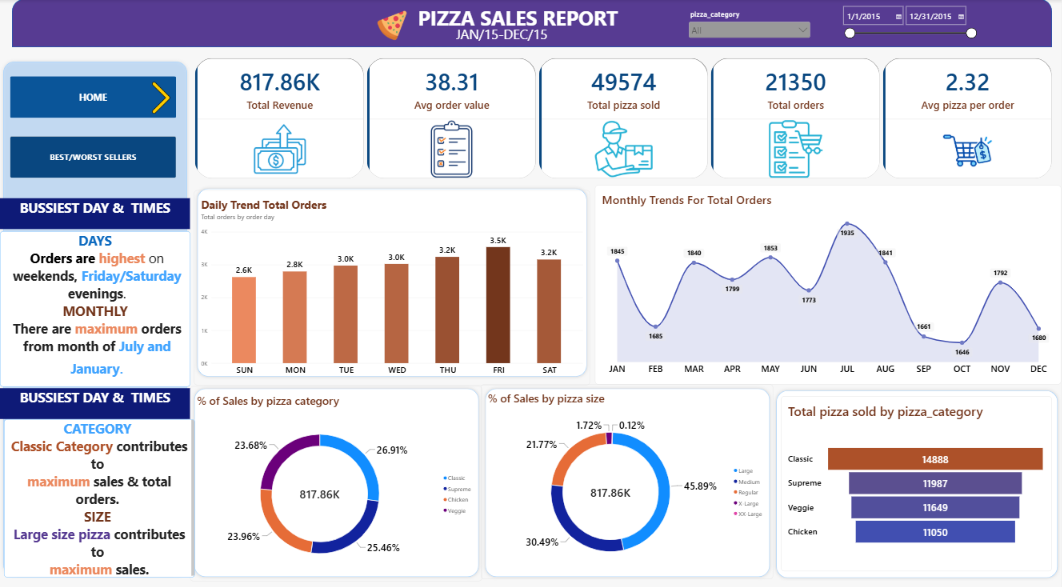

The dashboard page shown, as its layout file describes it:
{"tool":"powerbi","page":{"name":"HOME","canvas":[2560,1440],"ordinal":0},"visuals":[{"type":"cardVisual","fields":{"Data":["pizza_db pizza_sales.Total Revenue","pizza_db pizza_sales.Avg order value","pizza_db pizza_sales.Total pizza sold","pizza_db pizza_sales.Total orders","pizza_db pizza_sales.Avg pizza per order"]},"box":[470,142.6,2070,290.4],"z":0},{"type":"shape","box":[29,0,2509.4,115.8],"z":1000},{"type":"textbox","box":[1008.4,13.2,580,92.3],"z":2000},{"type":"textbox","box":[1100.7,62.6,243.9,46.1],"z":3000},{"type":"image","box":[829,26.4,232.3,73.9],"z":4000},{"type":"shape","box":[468.1,448.8,955.8,470],"z":5000},{"type":"columnChart","title":"Daily Trend Total Orders","fields":{"Category":["pizza_db pizza_sales.order day"],"Y":["pizza_db pizza_sales.Total orders"]},"box":[468.1,460.9,955.5,470.5],"z":6000},{"type":"shape","box":[1435.7,458.4,1124.8,470],"z":7000},{"type":"areaChart","title":"Monthly Trends For Total Orders","fields":{"Category":["pizza_db pizza_sales.order month"],"Y":["pizza_db pizza_sales.Total orders"]},"box":[1435.7,448.8,1124.8,480.5],"z":8000},{"type":"shape","box":[460.9,931.4,702.1,470.5],"z":9000},{"type":"shape","box":[1163,931.4,702.1,470.5],"z":10000},{"type":"shape","box":[1865.2,936.2,694.9,468.1],"z":11000},{"type":"donutChart","title":"% of Sales by pizza category","fields":{"Category":["pizza_db pizza_sales.pizza_category"],"Y":["pizza_db pizza_sales.Total Revenue"]},"box":[458.4,933.8,704.6,470.5],"z":12000},{"type":"donutChart","title":"% of Sales by pizza size","fields":{"Category":["pizza_db pizza_sales.pizza_size"],"Y":["pizza_db pizza_sales.Total Revenue"]},"box":[1161.7,929.4,704.6,470.5],"z":12001},{"type":"funnel","fields":{"Category":["pizza_db pizza_sales.pizza_category"],"Y":["pizza_db pizza_sales.Total pizza sold"]},"box":[1884.5,957.9,653.9,422.3],"z":12002},{"type":"shape","box":[0,142.6,459.4,1256.8],"z":12003},{"type":"textbox","box":[0,480.2,458.4,74.8],"z":12005},{"type":"textbox","box":[0,559.7,459.4,374.9],"z":12006},{"type":"textbox","box":[0,938.6,458.4,74.8],"z":12007},{"type":"textbox","box":[9.7,1013.4,460.9,381.2],"z":12008},{"type":"slicer","fields":{"Values":["pizza_db pizza_sales.pizza_category"]},"box":[1657.6,26.5,301.6,74.8],"z":12009},{"type":"slicer","fields":{"Values":["pizza_db pizza_sales.order_date"]},"box":[2026.8,12.1,333,89.3],"z":12010},{"type":"pageNavigator","box":[24.4,186.7,401.8,101.5],"z":12011},{"type":"pageNavigator","box":[24.1,330.6,401.8,101.5],"z":12012},{"type":"image","box":[349.9,178.6,77.2,118.2],"z":12013}]}

Visuals, with their boxes in screenshot pixels (x1, y1, x2, y2), scaled from the page's 2560x1440 canvas onto the 1062x587 screenshot:
cardVisual - pizza_db pizza_sales.Total Revenue x pizza_db pizza_sales.Avg order value: 195, 58, 1054, 177
shape: 12, 0, 1053, 47
textbox: 418, 5, 659, 43
textbox: 457, 26, 558, 44
image: 344, 11, 440, 41
shape: 194, 183, 591, 375
"Daily Trend Total Orders" columnChart: 194, 188, 591, 380
shape: 596, 187, 1061, 378
"Monthly Trends For Total Orders" areaChart: 596, 183, 1061, 379
shape: 191, 380, 482, 571
shape: 482, 380, 774, 571
shape: 774, 382, 1061, 572
"% of Sales by pizza category" donutChart: 190, 381, 482, 572
"% of Sales by pizza size" donutChart: 482, 379, 774, 571
funnel - pizza_db pizza_sales.pizza_category x pizza_db pizza_sales.Total pizza sold: 782, 390, 1053, 563
shape: 0, 58, 191, 570
textbox: 0, 196, 190, 226
textbox: 0, 228, 191, 381
textbox: 0, 383, 190, 413
textbox: 4, 413, 195, 568
slicer - pizza_db pizza_sales.pizza_category: 688, 11, 813, 41
slicer - pizza_db pizza_sales.order_date: 841, 5, 979, 41
pageNavigator: 10, 76, 177, 117
pageNavigator: 10, 135, 177, 176
image: 145, 73, 177, 121
